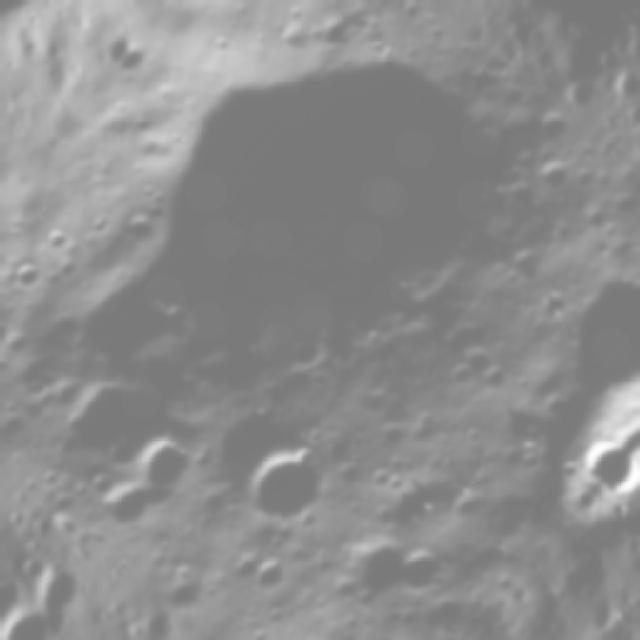crater: (92, 0, 596, 483), (57, 258, 192, 392), (231, 428, 349, 547), (124, 420, 216, 514), (89, 461, 182, 553), (327, 523, 413, 609), (387, 535, 461, 611), (150, 558, 216, 624), (434, 475, 498, 539), (245, 555, 298, 607), (113, 206, 164, 256), (0, 288, 28, 378), (0, 252, 48, 298), (11, 367, 58, 413), (77, 464, 121, 508), (365, 459, 409, 503), (438, 357, 479, 398), (35, 222, 71, 258)
